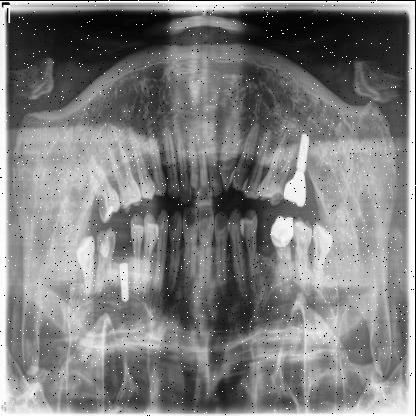ITI: (297, 132, 311, 174), (119, 258, 131, 304)
